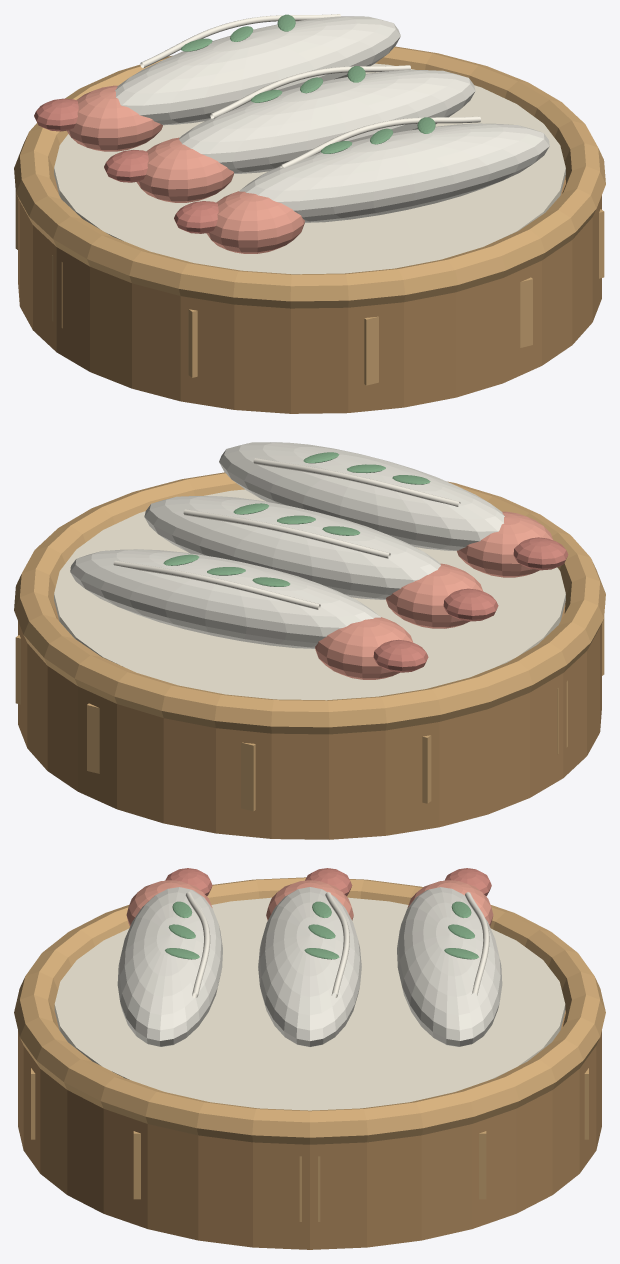
File: steamer_shrimp_roll.glb
3 views of the same model, one above another, from view 1: azimuth 30°, elevation 25°; view 2: azimuth 150°, elevation 25°; view 3: azimuth 270°, elevation 25° (orthographic).
Visible parts, largest first — view 1: shrimp_roll_woven_base, shrimp_roll_top_binding, shrimp_roll_paper_liner, loose_rice_sheet_0, loose_rice_sheet_2, loose_rice_sheet_1, visible_shrimp_filling_0, visible_shrimp_filling_1, visible_shrimp_filling_2, rice_sheet_fold_0, rice_sheet_fold_1, shrimp_tail_peeking_0 (+6 smaller); view 2: shrimp_roll_woven_base, shrimp_roll_top_binding, shrimp_roll_paper_liner, loose_rice_sheet_2, loose_rice_sheet_0, loose_rice_sheet_1, visible_shrimp_filling_2, visible_shrimp_filling_1, visible_shrimp_filling_0, rice_sheet_fold_1, shrimp_tail_peeking_1, shrimp_tail_peeking_2 (+6 smaller); view 3: shrimp_roll_woven_base, shrimp_roll_paper_liner, shrimp_roll_top_binding, loose_rice_sheet_2, loose_rice_sheet_0, loose_rice_sheet_1, visible_shrimp_filling_0, visible_shrimp_filling_1, visible_shrimp_filling_2, rice_sheet_fold_0, rice_sheet_fold_1, rice_sheet_fold_2 (+5 smaller).
Part boxes in pixels (x1,y1,x2,y2): shrimp_roll_woven_base: (18, 176, 601, 413); shrimp_roll_top_binding: (14, 46, 605, 308); shrimp_roll_paper_liner: (54, 63, 565, 274); loose_rice_sheet_0: (239, 123, 549, 222); loose_rice_sheet_2: (115, 16, 400, 125); loose_rice_sheet_1: (179, 70, 475, 173); visible_shrimp_filling_0: (206, 191, 304, 253); visible_shrimp_filling_1: (136, 137, 233, 202); visible_shrimp_filling_2: (67, 85, 162, 151); rice_sheet_fold_0: (280, 116, 480, 168); rice_sheet_fold_1: (210, 65, 410, 118); shrimp_tail_peeking_0: (174, 201, 218, 233); shrimp_roll_woven_base: (18, 602, 601, 839); shrimp_roll_top_binding: (14, 472, 605, 734); shrimp_roll_paper_liner: (54, 489, 565, 700); loose_rice_sheet_2: (70, 549, 380, 648); loose_rice_sheet_0: (219, 442, 504, 550); loose_rice_sheet_1: (144, 496, 440, 599); visible_shrimp_filling_2: (315, 617, 413, 679); visible_shrimp_filling_1: (386, 563, 483, 628); visible_shrimp_filling_0: (457, 511, 552, 577); rice_sheet_fold_1: (183, 509, 390, 558); shrimp_tail_peeking_1: (443, 588, 498, 621); shrimp_tail_peeking_2: (373, 639, 428, 672); shrimp_roll_woven_base: (18, 1010, 601, 1249); shrimp_roll_paper_liner: (54, 897, 565, 1110); shrimp_roll_top_binding: (14, 877, 605, 1144); loose_rice_sheet_2: (397, 887, 502, 1046); loose_rice_sheet_0: (117, 887, 222, 1046); loose_rice_sheet_1: (258, 887, 361, 1046); visible_shrimp_filling_0: (126, 880, 212, 926); visible_shrimp_filling_1: (266, 880, 353, 920); visible_shrimp_filling_2: (407, 880, 493, 926); rice_sheet_fold_0: (185, 892, 210, 998); rice_sheet_fold_1: (325, 892, 349, 997); rice_sheet_fold_2: (465, 892, 489, 995).
Size of the model in its own units: 0.742 by 0.2776 by 0.742.
